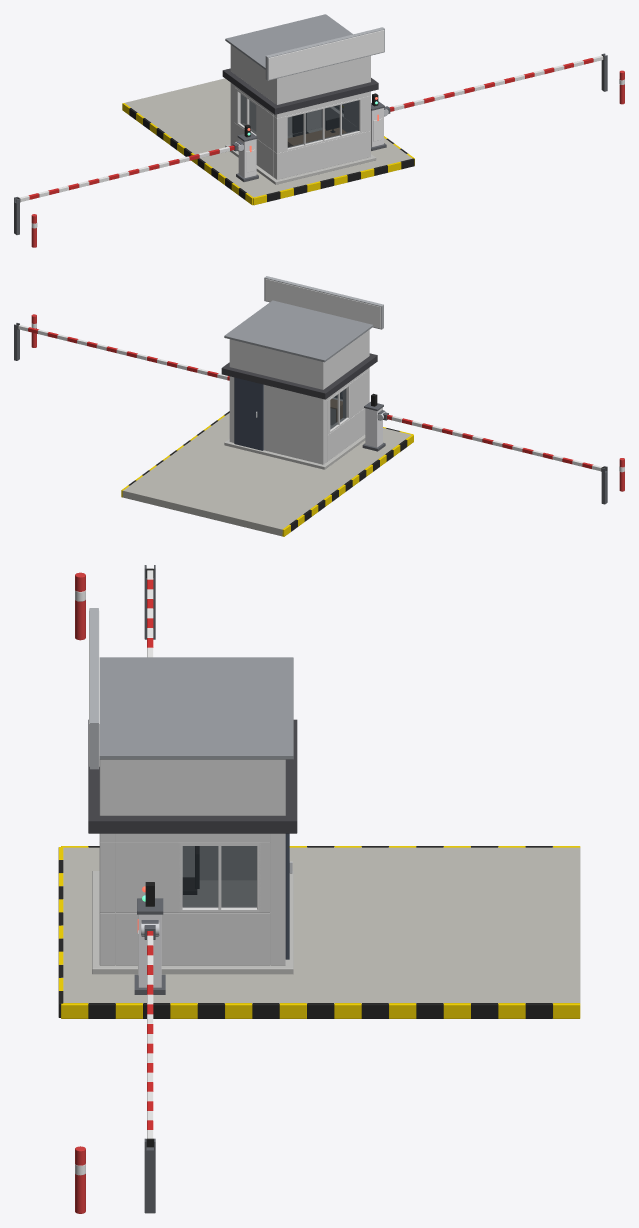
Rendered from gate.fbx.
3 renders of one model, top to bottom at view 1: azimuth 30°, elevation 25°; view 2: azimuth 150°, elevation 25°; view 3: azimuth 270°, elevation 25°, orthographic. The views are drawn at different scales.
Visible parts, largest first — view 1: Pos_BatuAtas; view 2: Pos_BatuAtas; view 3: Pos_BatuAtas.
Part boxes in pixels (bbox=[...]): Pos_BatuAtas: bbox=[14, 14, 624, 247]; Pos_BatuAtas: bbox=[14, 276, 624, 536]; Pos_BatuAtas: bbox=[58, 565, 580, 1213].
Size of the model in its own units: 1766 by 391 by 673.
